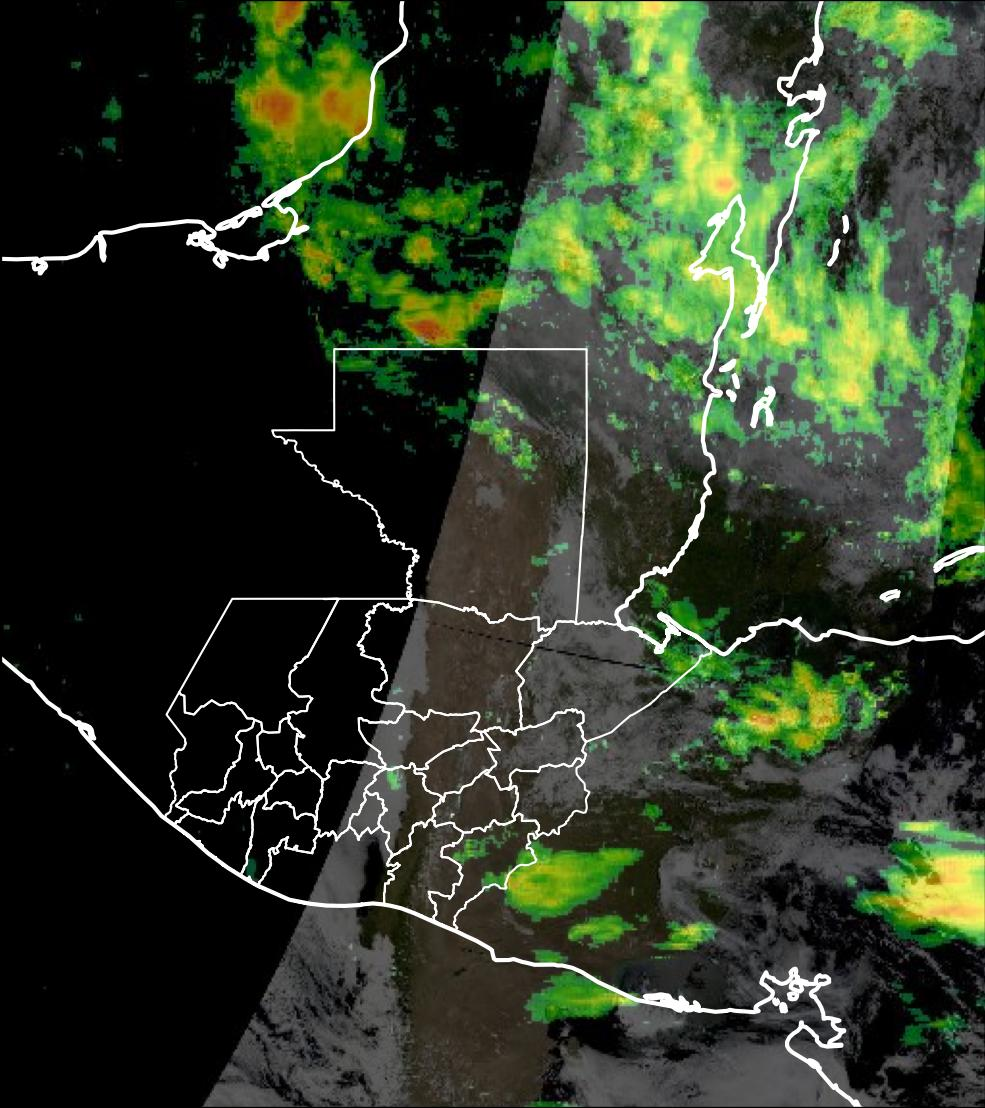precipitacion: (243, 57, 415, 169), (375, 287, 514, 347)
